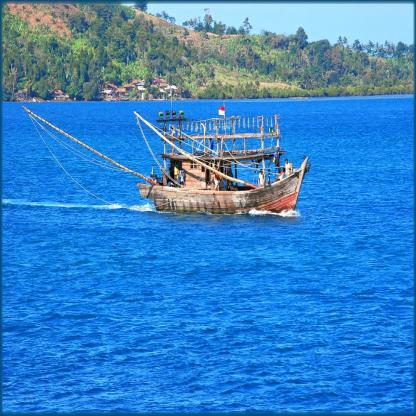fishing boat: (88, 109, 307, 221)
